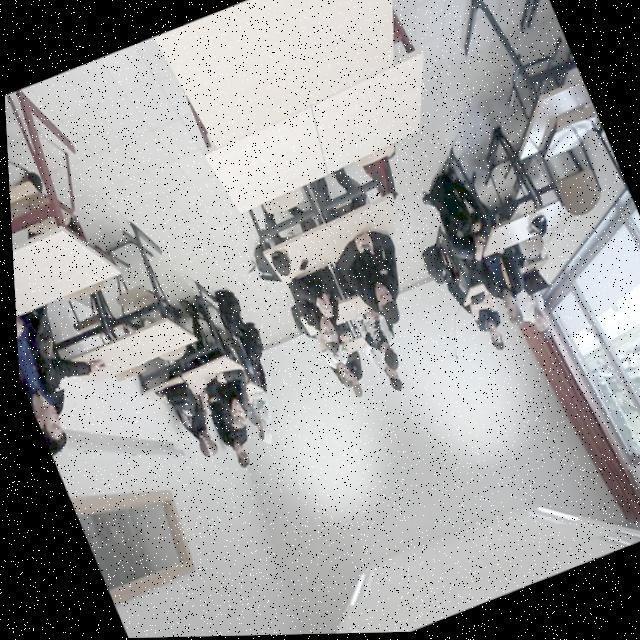phone_use: (334, 231, 397, 329), (361, 308, 401, 388)
